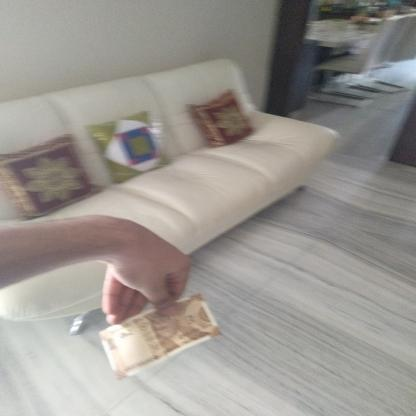New10Front: (103, 294, 209, 368)
